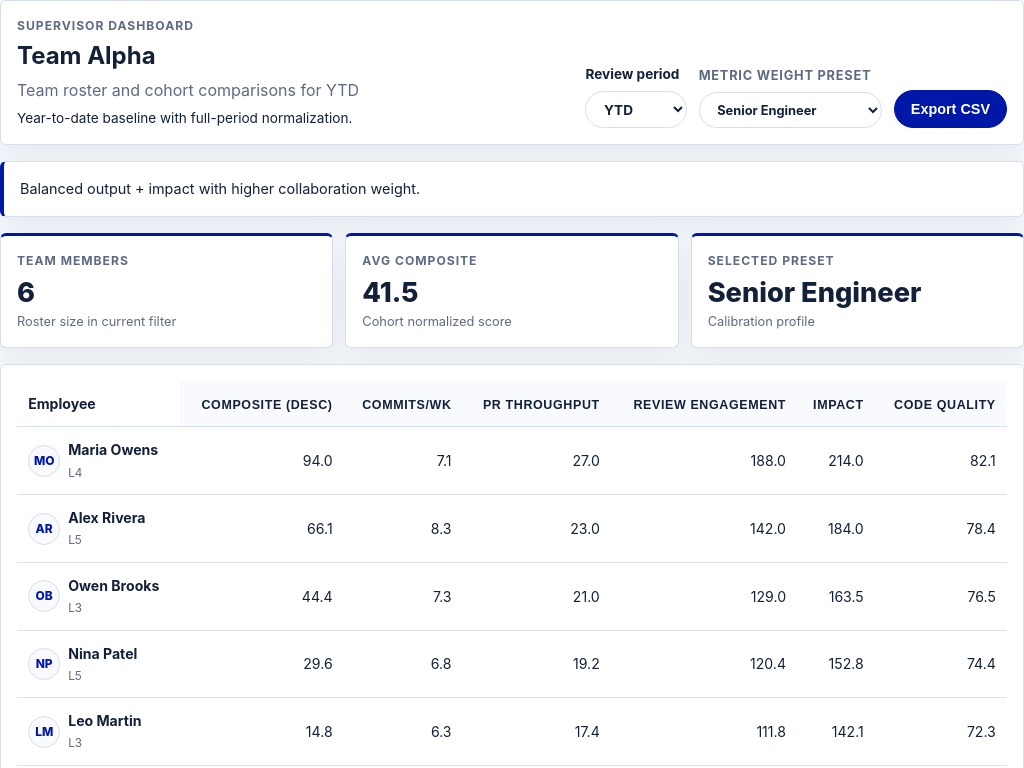
Supervisor dashboard dropdown functionality › updates preset description and average composite when weight preset changes
Select "Engineering Manager" in the dropdown labelled "Metric weight preset" at (790, 110), box [699,92,882,128]
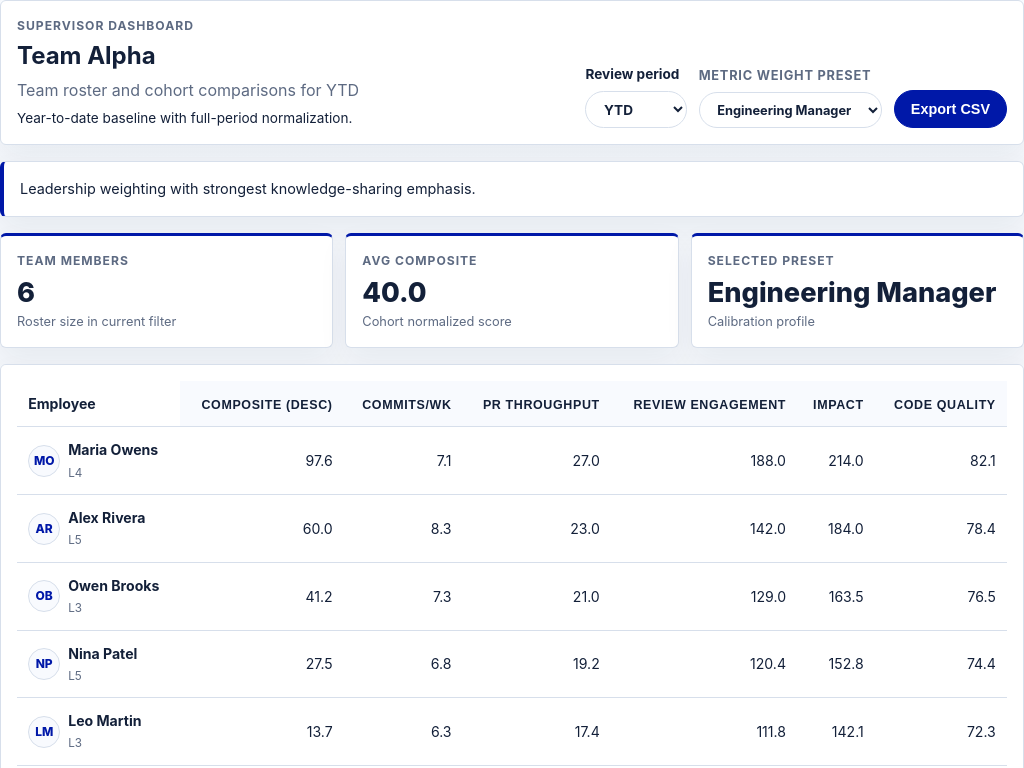
Result: the text with test id "preset-description" shows "Leadership weighting" at [20,180,476,197]
